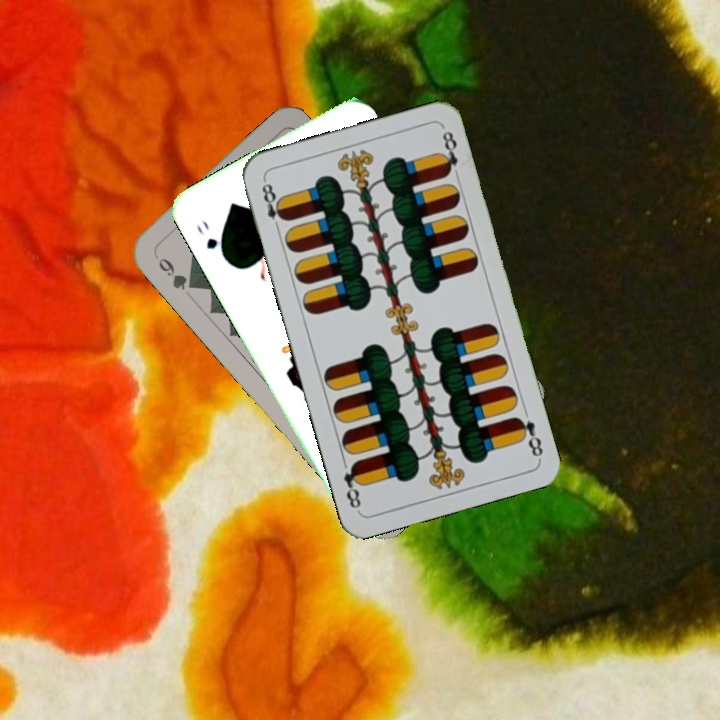E8: (258, 176, 289, 234), (511, 412, 546, 461)
G9: (150, 249, 199, 293)
GO: (192, 216, 229, 263)
